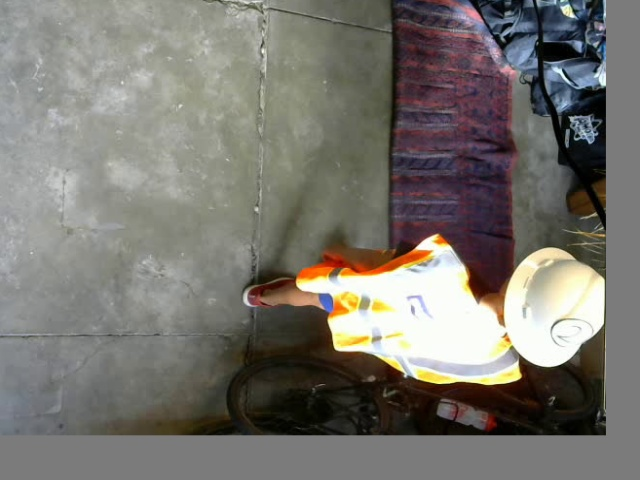two: (550, 318, 591, 346)
